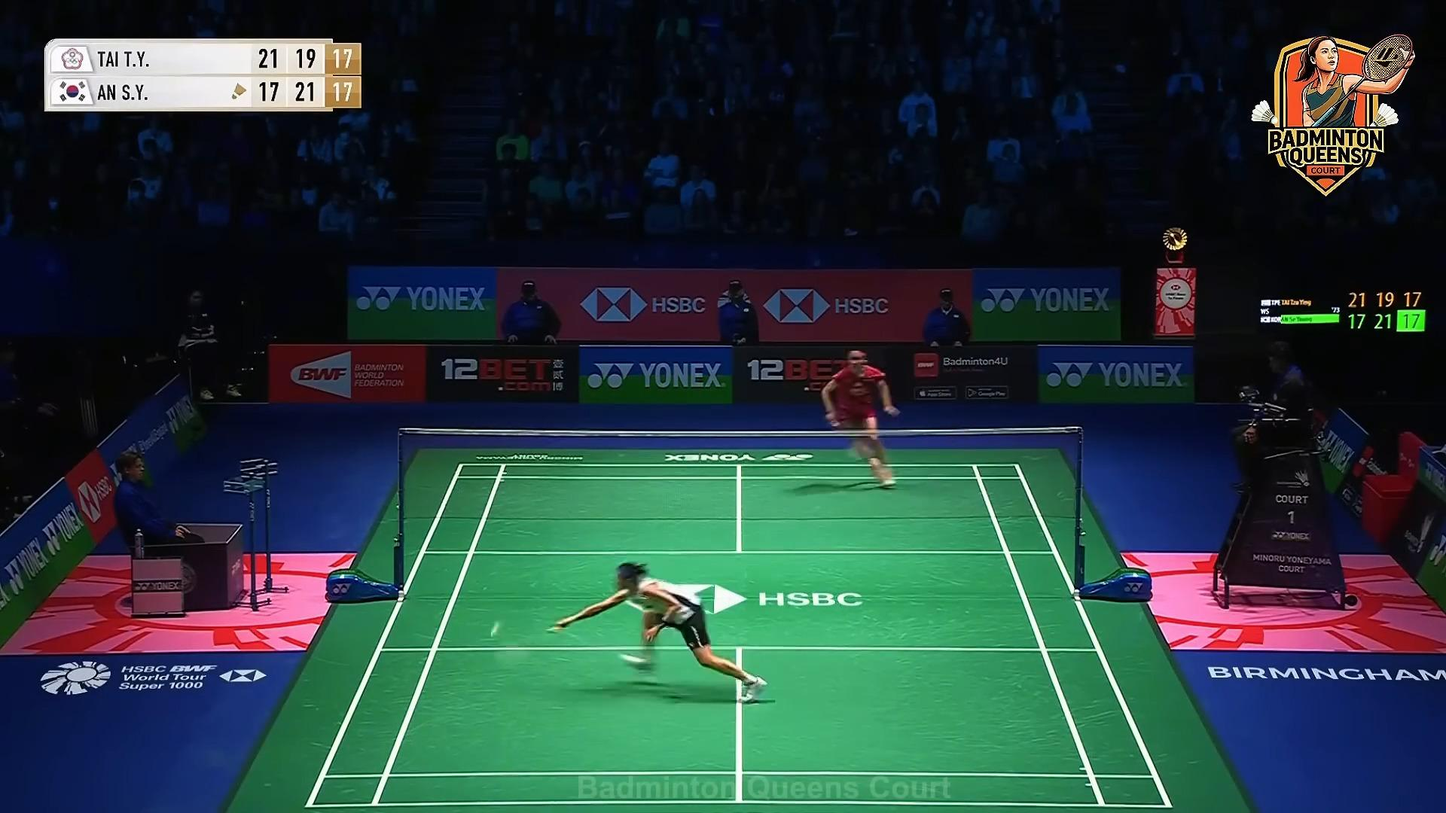shuttlecock: (490, 620, 500, 638)
